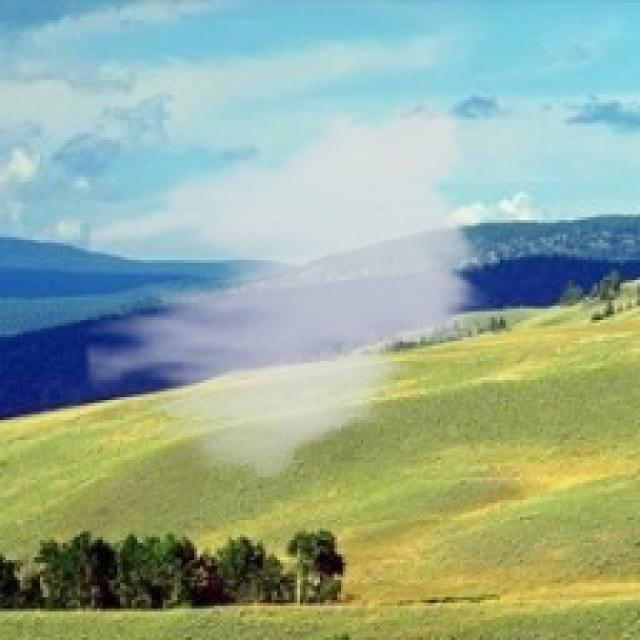Smoke: (86, 82, 497, 492)
